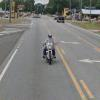Motorcycle: (37, 35, 62, 73)
